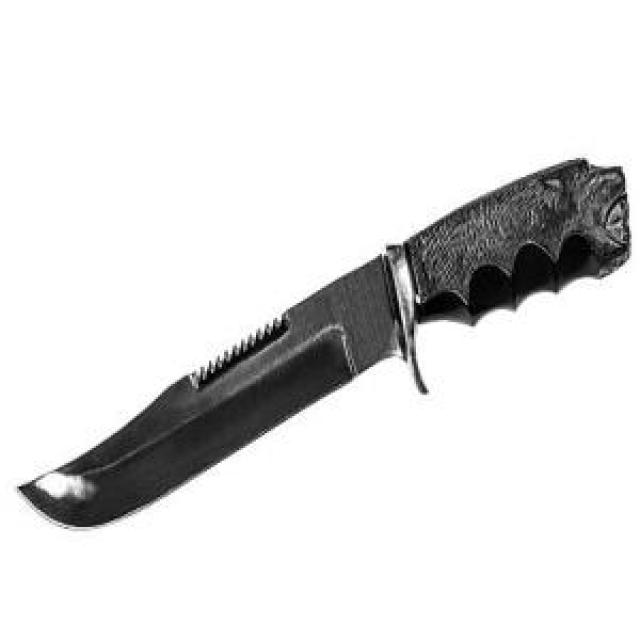knife: (17, 145, 633, 545)
